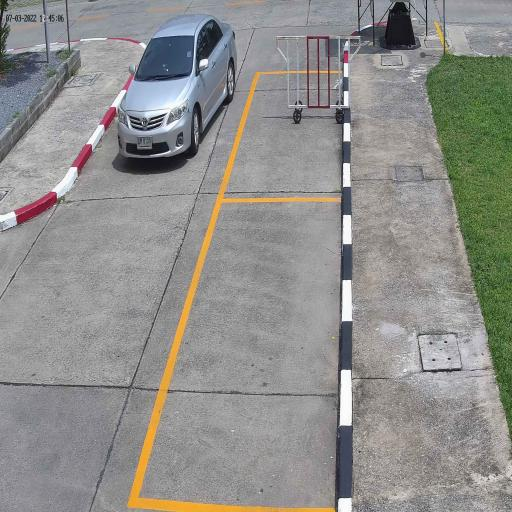car: (117, 14, 239, 160)
